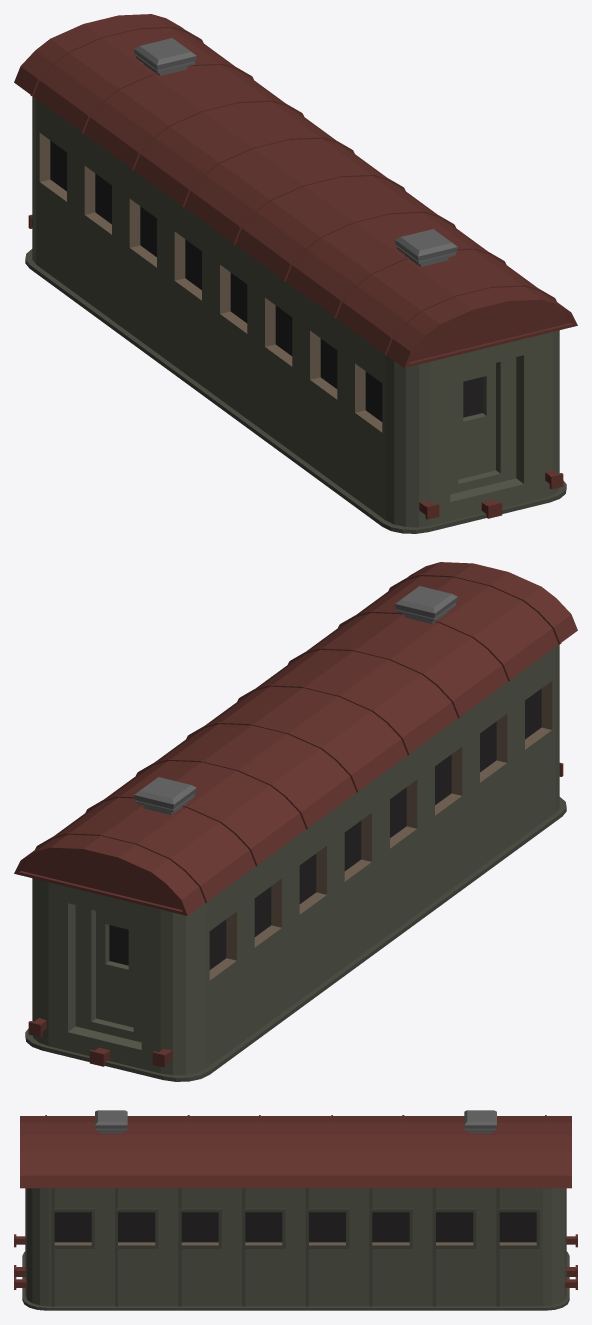
File: wagon_pass_02.glb
3 renders of one model, top to bottom at view 1: azimuth 30°, elevation 25°; view 2: azimuth 150°, elevation 25°; view 3: azimuth 270°, elevation 25°, orthographic. The views are drawn at different scales.
Visible parts, largest first — view 1: Locomotive_PassengerWagon; view 2: Locomotive_PassengerWagon; view 3: Locomotive_PassengerWagon.
Part boxes in pixels (x1,y1,x2,y2): Locomotive_PassengerWagon: (14,14,577,533); Locomotive_PassengerWagon: (14,562,577,1081); Locomotive_PassengerWagon: (14,1110,577,1310).
Size of the model in its own units: 3.69 by 4.82 by 14.15.
